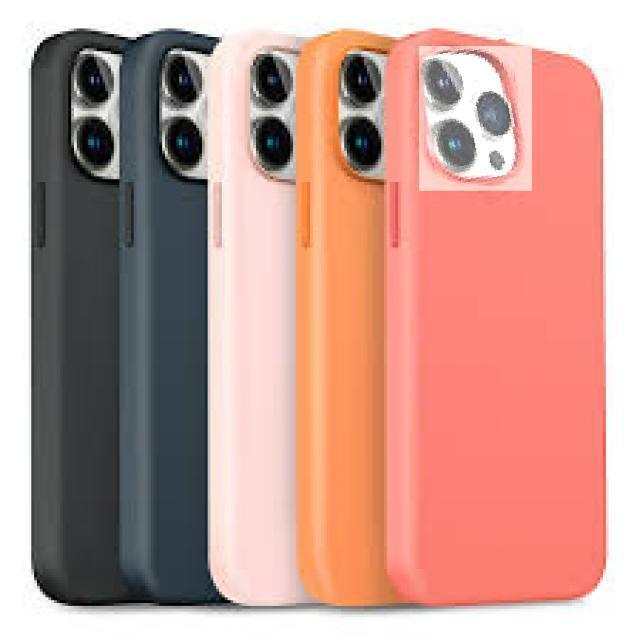phone: (392, 26, 616, 602), (26, 26, 132, 612), (304, 16, 406, 616), (136, 19, 224, 614)
